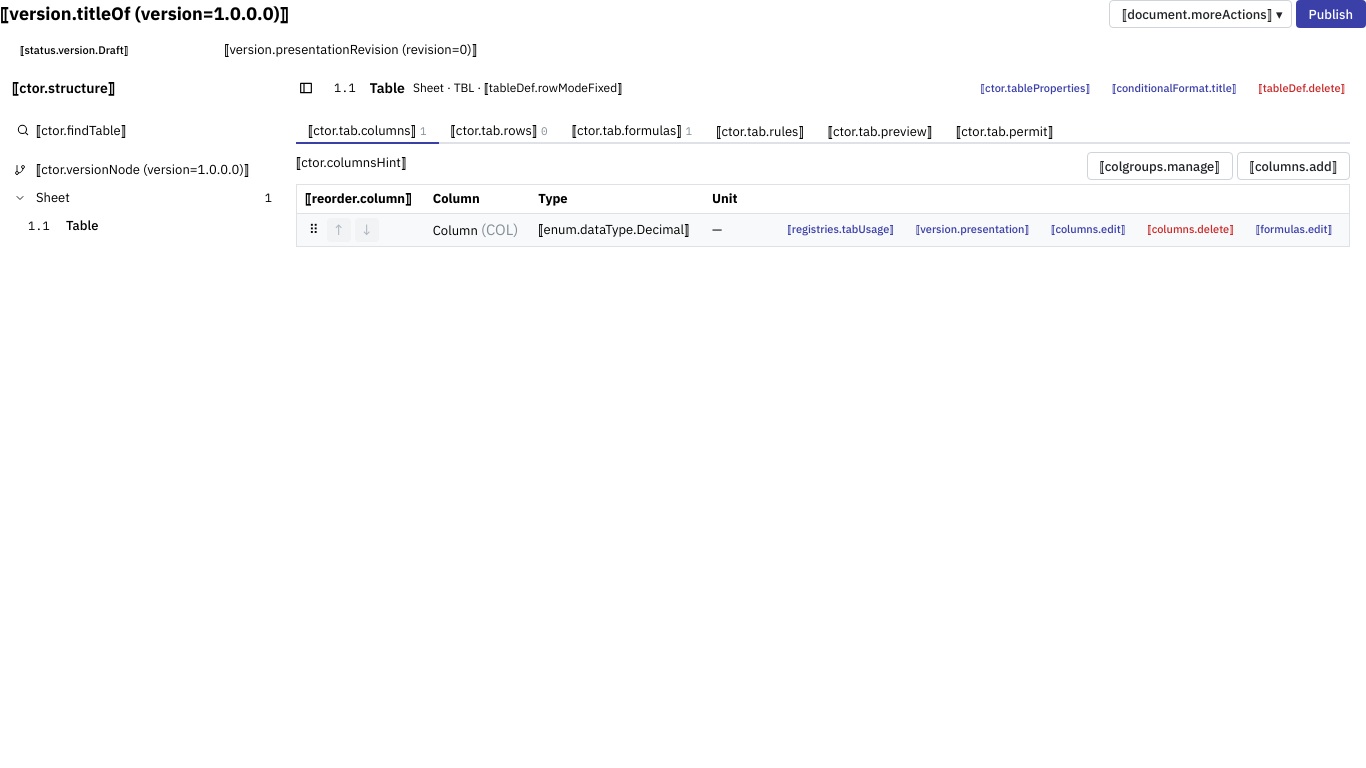
Test: TemplateVersionPage: афорданс «де використано» колонки (ФВ-8.14) › успіх із записом — перелік у модалці
The width and height of the screenshot is (1366, 768).
Expected: the element with test id "ctor-table" is shown, [280, 68, 1365, 263]
Click the button "⟦registries.tabUsage⟧" at (840, 230), box [778, 218, 903, 242]
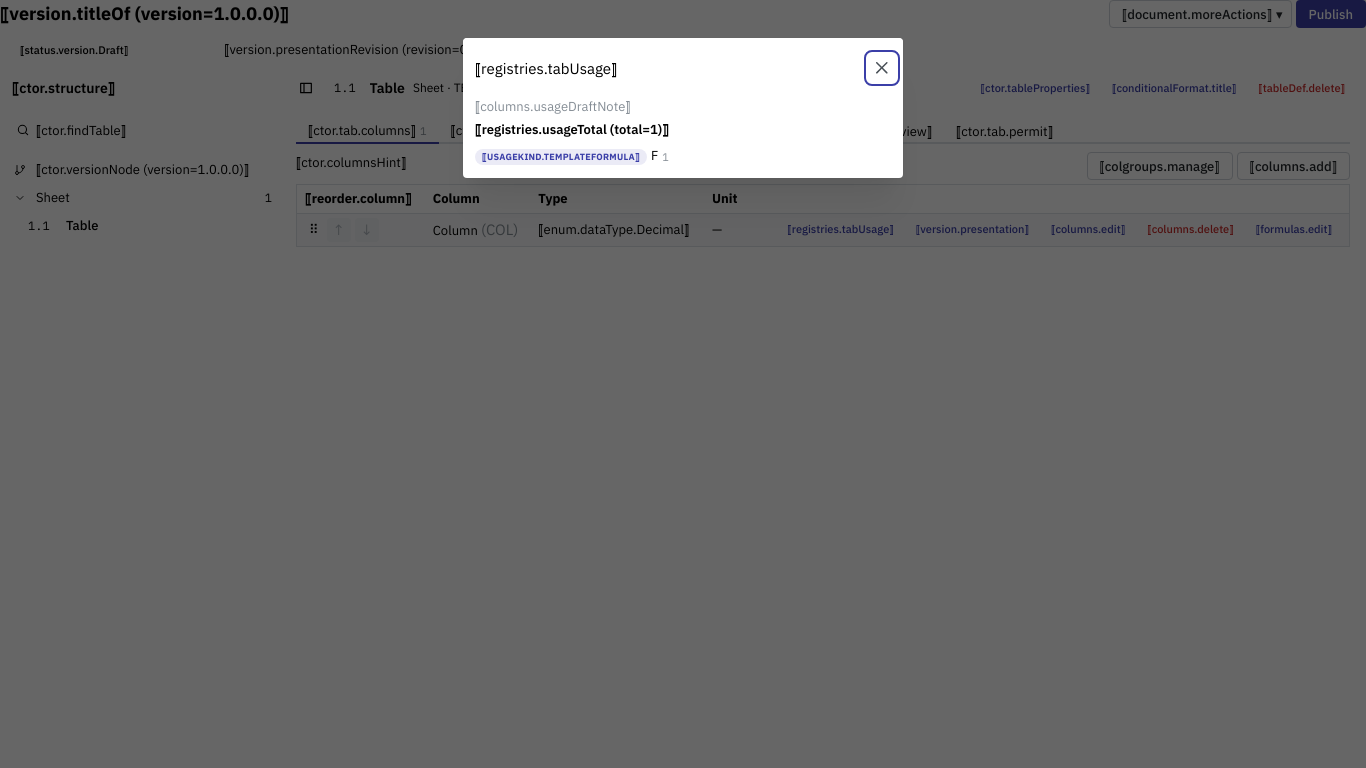
Expected: the text "F" is shown, [651, 148, 658, 166]
